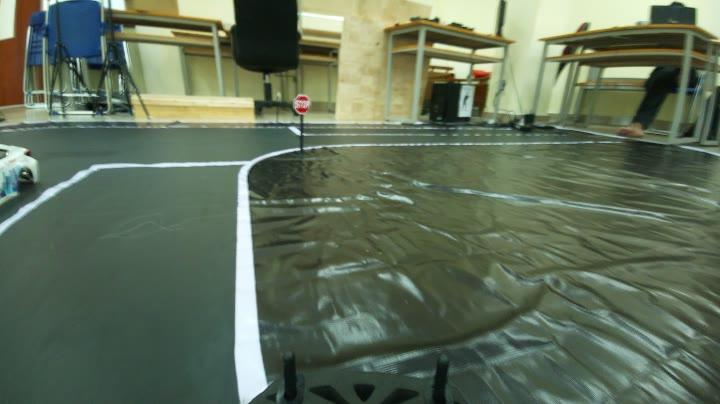stop: (290, 88, 312, 122)
